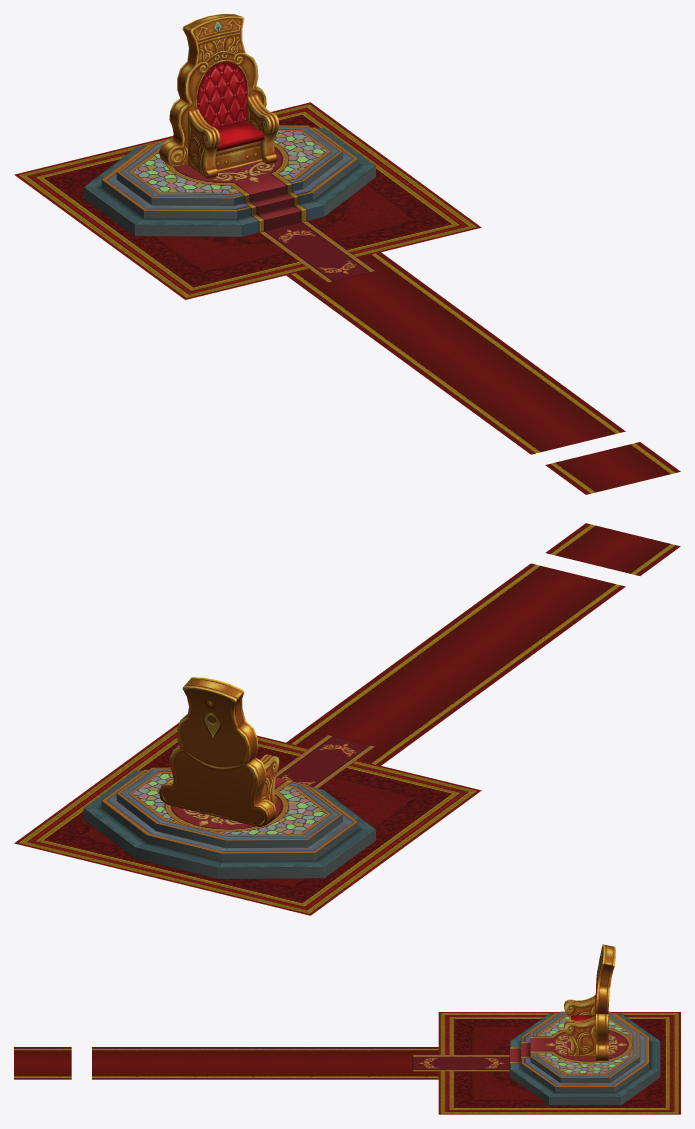
The model's file is wangzuo.FBX.
3 views of the same model, one above another, from view 1: azimuth 30°, elevation 25°; view 2: azimuth 150°, elevation 25°; view 3: azimuth 270°, elevation 25° (orthographic). The views are drawn at different scales.
Parts seen in each view (by area): view 1: wangzuodizuo, ditan02, wangzuo, ditan1; view 2: wangzuodizuo, ditan02, wangzuo, ditan1; view 3: wangzuodizuo, ditan02, wangzuo, ditan1.
Part boxes in pixels (box(x1,y1,x2,y2)): wangzuodizuo: box(14, 102, 481, 299); ditan02: box(286, 252, 625, 454); wangzuo: box(159, 14, 279, 178); ditan1: box(545, 442, 680, 494); wangzuodizuo: box(14, 723, 481, 915); ditan02: box(286, 563, 625, 765); wangzuo: box(159, 677, 279, 827); ditan1: box(545, 523, 680, 575); wangzuodizuo: box(412, 1011, 680, 1114); ditan02: box(92, 1047, 438, 1079); wangzuo: box(564, 944, 615, 1060); ditan1: box(14, 1047, 71, 1079).
Size of the model in its own units: 94.6 by 48.64 by 260.
